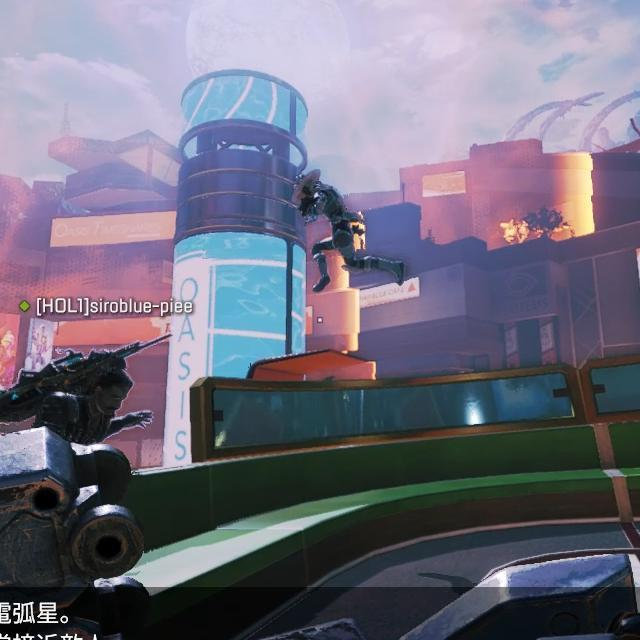avatar: (297, 173, 360, 294)
